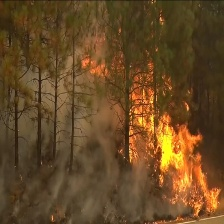fire: (132, 112, 219, 215)
smoke: (15, 73, 155, 213)
